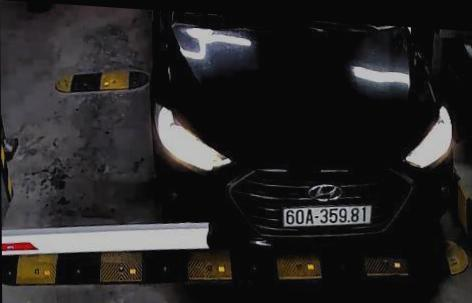License_Plate: (284, 196, 373, 233)
